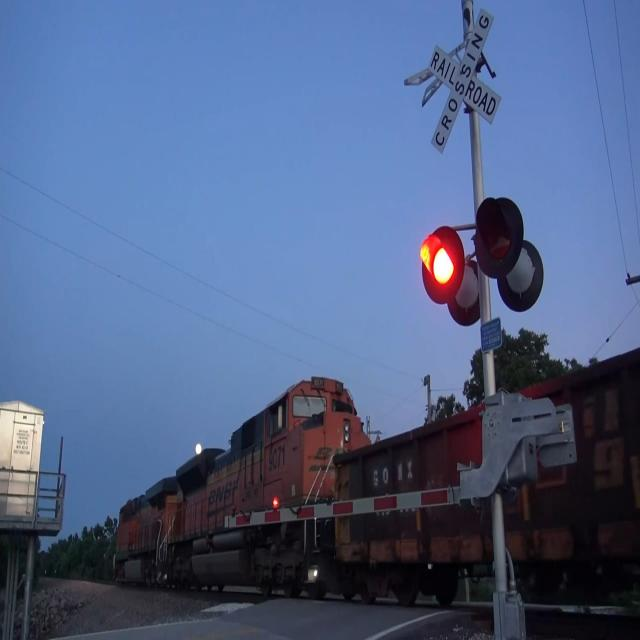gondola: (328, 333, 640, 618)
locomotive: (172, 363, 369, 610), (110, 472, 176, 594)
